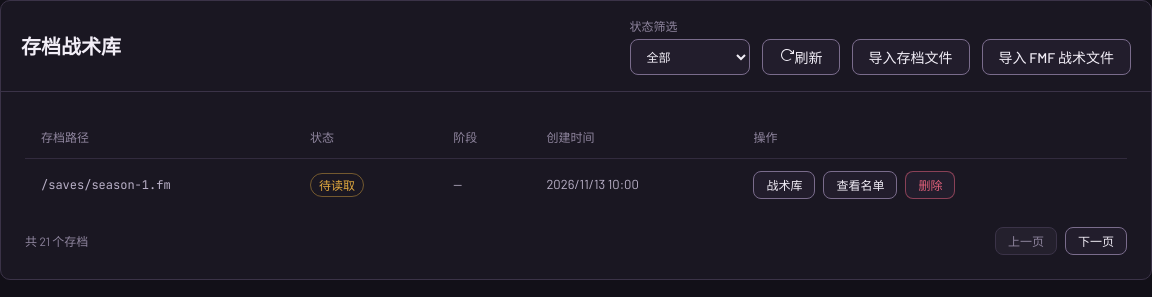
Test case: LibraryPage › 分页按钮按 next_offset 加载下一页
This screenshot has width=1152, height=297.
Expected: the text "/saves/season-1.fm" is shown, x1=41 y1=177 x2=171 y2=193
Expected: the text "共 21 个存档" is shown, x1=25 y1=232 x2=88 y2=250
Click the button "下一页": point(1096, 241) x1=1065 y1=227 x2=1127 y2=255
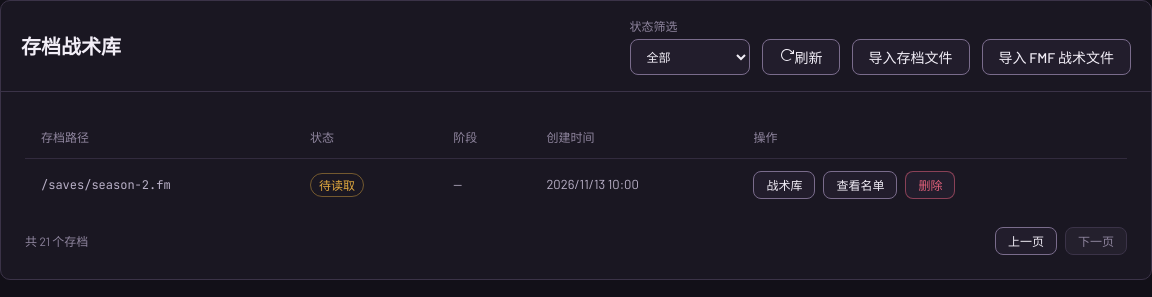
Result: the text "/saves/season-2.fm" is shown at x1=41 y1=177 x2=171 y2=193
Result: the button "上一页" is enabled at x1=995 y1=227 x2=1057 y2=255
